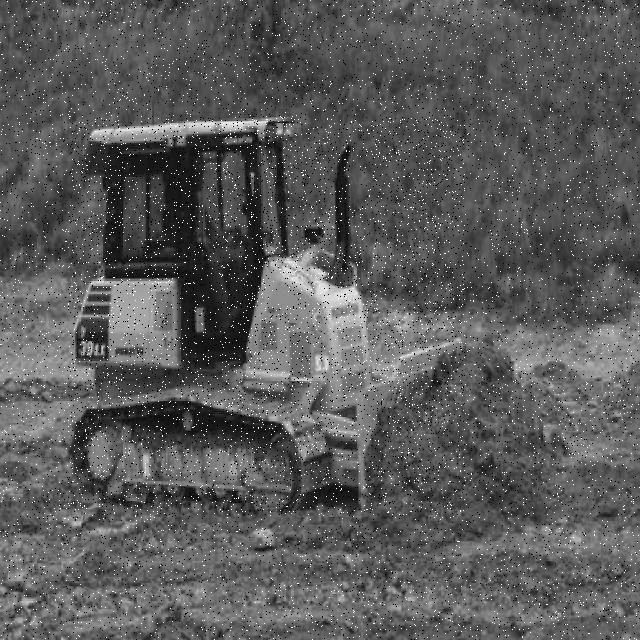Construction Equipment: (68, 116, 465, 515)
